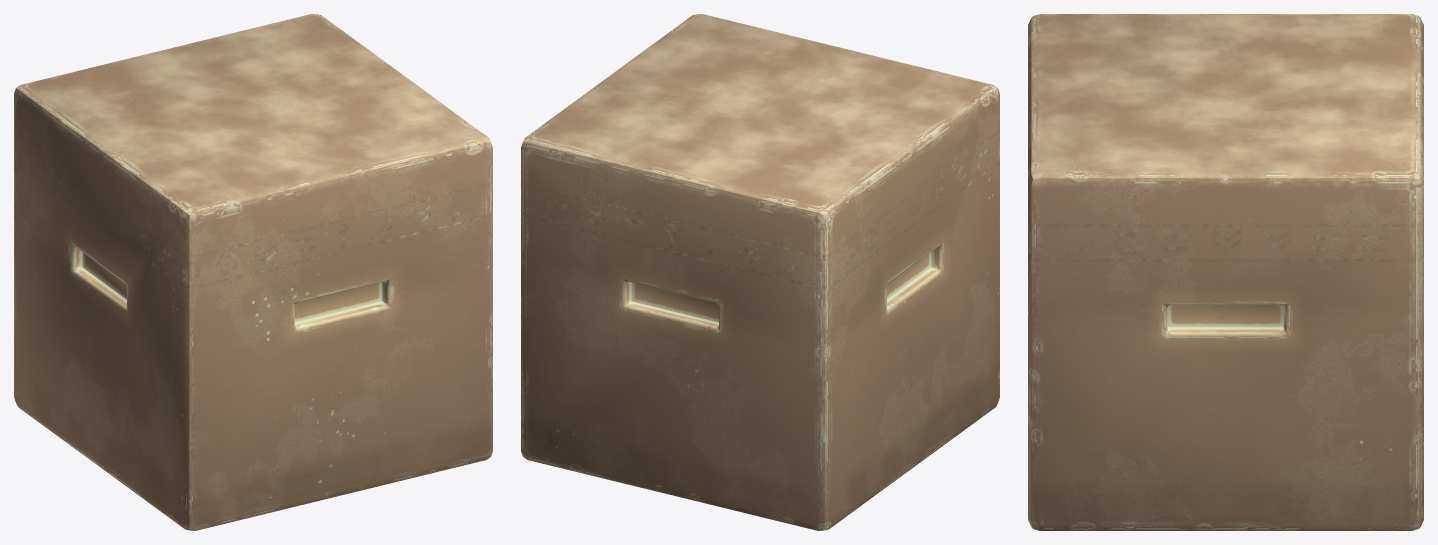
File: block.glb
3 views of the same model, side by side, from view 1: azimuth 30°, elevation 25°; view 2: azimuth 150°, elevation 25°; view 3: azimuth 270°, elevation 25° (orthographic). The views are drawn at different scales.
Parts seen in each view (by area): view 1: block; view 2: block; view 3: block.
Part boxes in pixels (x1,y1,x2,y2): block: [14, 14, 492, 530]; block: [521, 14, 999, 530]; block: [1028, 14, 1423, 530].
Bounding box in the file's own units: 2 × 2 × 2.
1 material, 1 textured.
